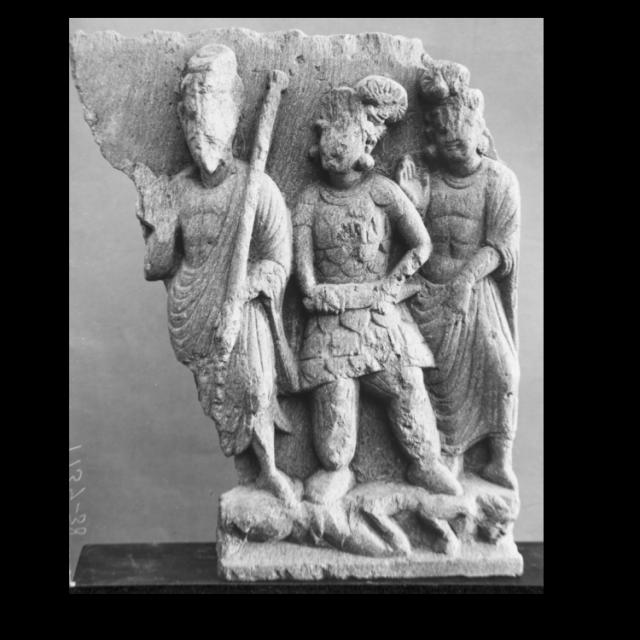buddha-standing: (293, 76, 461, 503)
